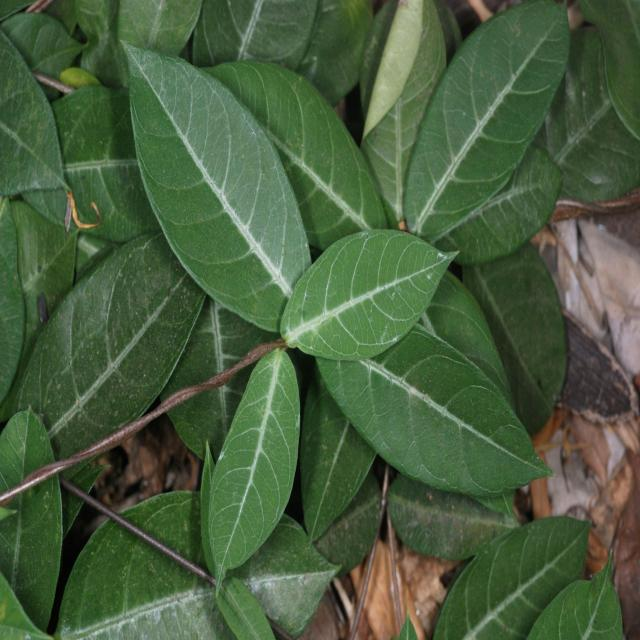Anantamul: (91, 108, 513, 553)
